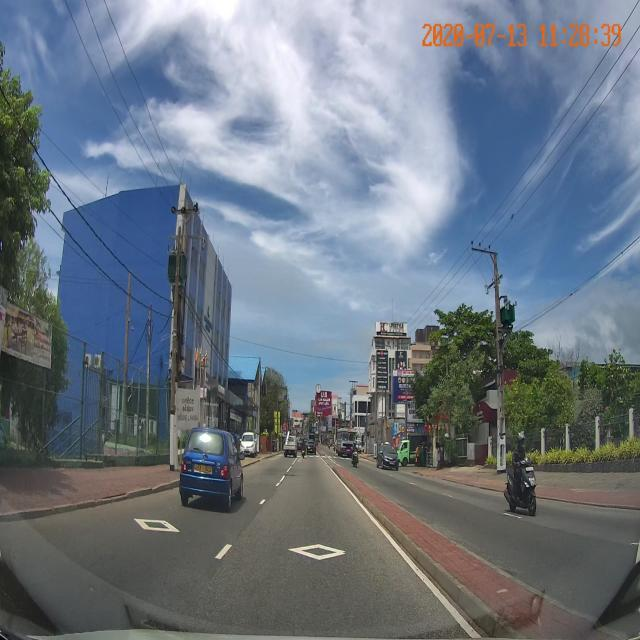diamond: (193, 526, 436, 582)
